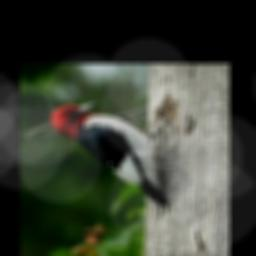Woodpecker: (49, 100, 167, 215)
